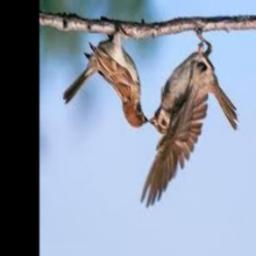Sparrow: (140, 30, 238, 207), (62, 25, 147, 129)
